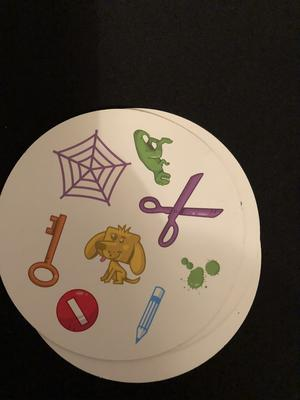chien: (83, 222, 149, 286)
ciseau: (138, 171, 226, 249)
cle: (26, 211, 68, 289)
crayon: (132, 284, 169, 345)
dinosore: (131, 126, 175, 188)
sens_interdit: (54, 288, 100, 335)
tache: (179, 254, 222, 293)
toile: (54, 126, 129, 206)
